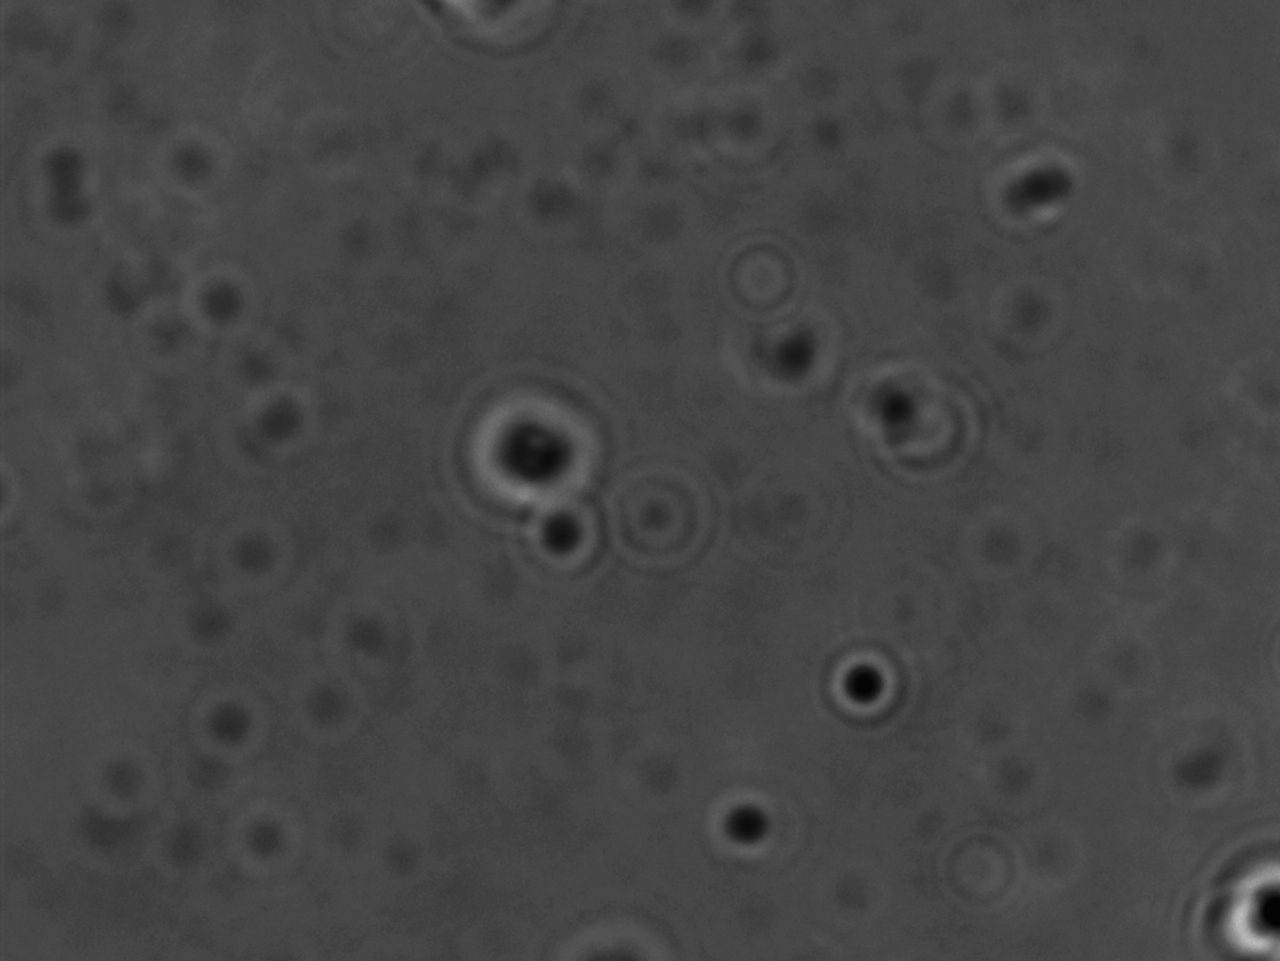depth:-24: (452, 370, 640, 541)
